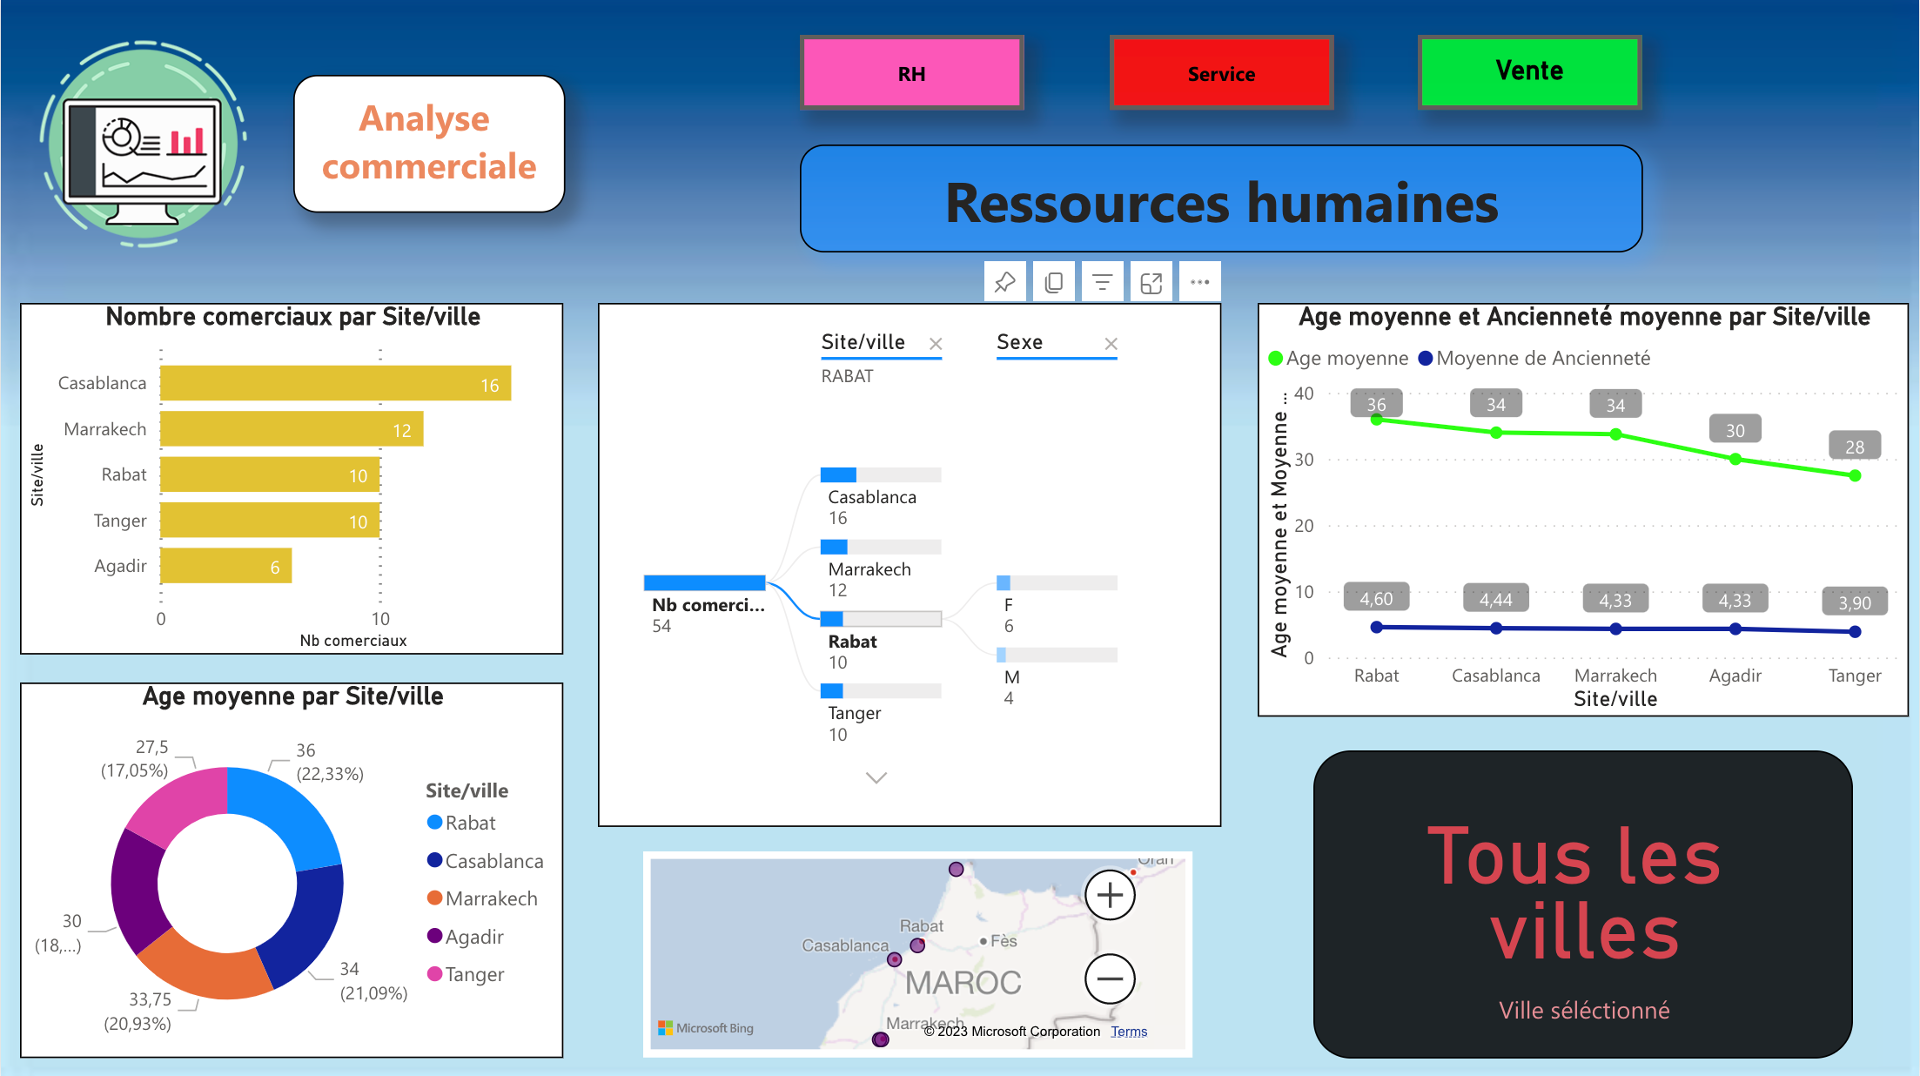

The page's visual inventory and layout, read from the dashboard file:
{"tool":"powerbi","page":{"name":"RH","canvas":[1280,720],"ordinal":0},"visuals":[{"type":"image","box":[13.3,17.3,164,158.7],"z":0},{"type":"textbox","box":[194.7,50.7,181.3,92],"z":1000},{"type":"textbox","box":[533.3,97.3,562.7,72],"z":2000},{"type":"clusteredBarChart","title":"Nombre comerciaux par Site/ville","fields":{"Y":["RH.Nb comerciaux"],"Category":["RH.Site/ville"]},"box":[13.3,202.7,362.7,234.7],"z":3000},{"type":"decompositionTreeVisual","fields":{"ExplainBy":["RH.Site/ville","RH.Sexe"],"Analyze":["RH.Nb comerciaux"]},"box":[398.7,202.7,416,349.3],"z":4000},{"type":"map","fields":{"Category":["RH.Site/ville"]},"box":[428,569.3,366.7,137.3],"z":5000},{"type":"lineChart","title":"Age moyenne et Ancienneté moyenne  par Site/ville","fields":{"Y":["RH.Age moyenne","Avg(RH.Ancienneté)"],"Category":["RH.Site/ville"]},"box":[838.7,202.7,434.7,276],"z":6000},{"type":"donutChart","fields":{"Category":["RH.Site/ville"],"Y":["RH.Age moyenne"]},"box":[13.3,456,362.7,250.7],"z":7000},{"type":"card","fields":{"Values":["RH.Ville séléctionné"]},"box":[876,501.3,360,205.3],"z":8000},{"type":"actionButton","title":"RH","box":[533.6,24.9,149.6,49.9],"z":9000},{"type":"actionButton","box":[739.7,24.9,149.6,49.9],"z":10000},{"type":"actionButton","box":[945.9,24.9,149.6,49.9],"z":11000}]}

Visuals, with their boxes in screenshot pixels (x1, y1, x2, y2), scaled from the page's 1280x720 canvas onto the 1920x1076 screenshot:
image: (x1=20, y1=26, x2=266, y2=263)
textbox: (x1=292, y1=76, x2=564, y2=213)
textbox: (x1=800, y1=145, x2=1644, y2=253)
"Nombre comerciaux par Site/ville" clusteredBarChart: (x1=20, y1=303, x2=564, y2=654)
decompositionTreeVisual - RH.Site/ville x RH.Sexe: (x1=598, y1=303, x2=1222, y2=825)
map - RH.Site/ville: (x1=642, y1=851, x2=1192, y2=1056)
"Age moyenne et Ancienneté moyenne  par Site/ville" lineChart: (x1=1258, y1=303, x2=1910, y2=715)
donutChart - RH.Site/ville x RH.Age moyenne: (x1=20, y1=681, x2=564, y2=1056)
card - RH.Ville séléctionné: (x1=1314, y1=749, x2=1854, y2=1056)
"RH" actionButton: (x1=800, y1=37, x2=1025, y2=112)
actionButton: (x1=1110, y1=37, x2=1334, y2=112)
actionButton: (x1=1419, y1=37, x2=1643, y2=112)
